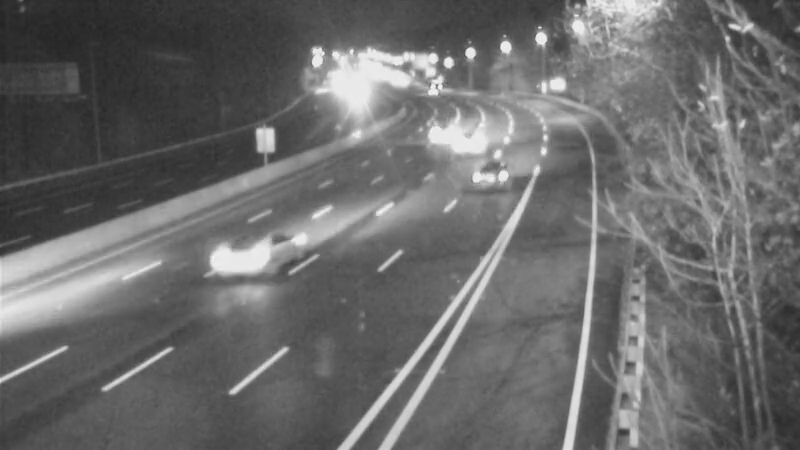vehicle: (455, 131, 535, 211), (208, 218, 288, 298), (412, 102, 462, 152), (441, 120, 491, 170)
